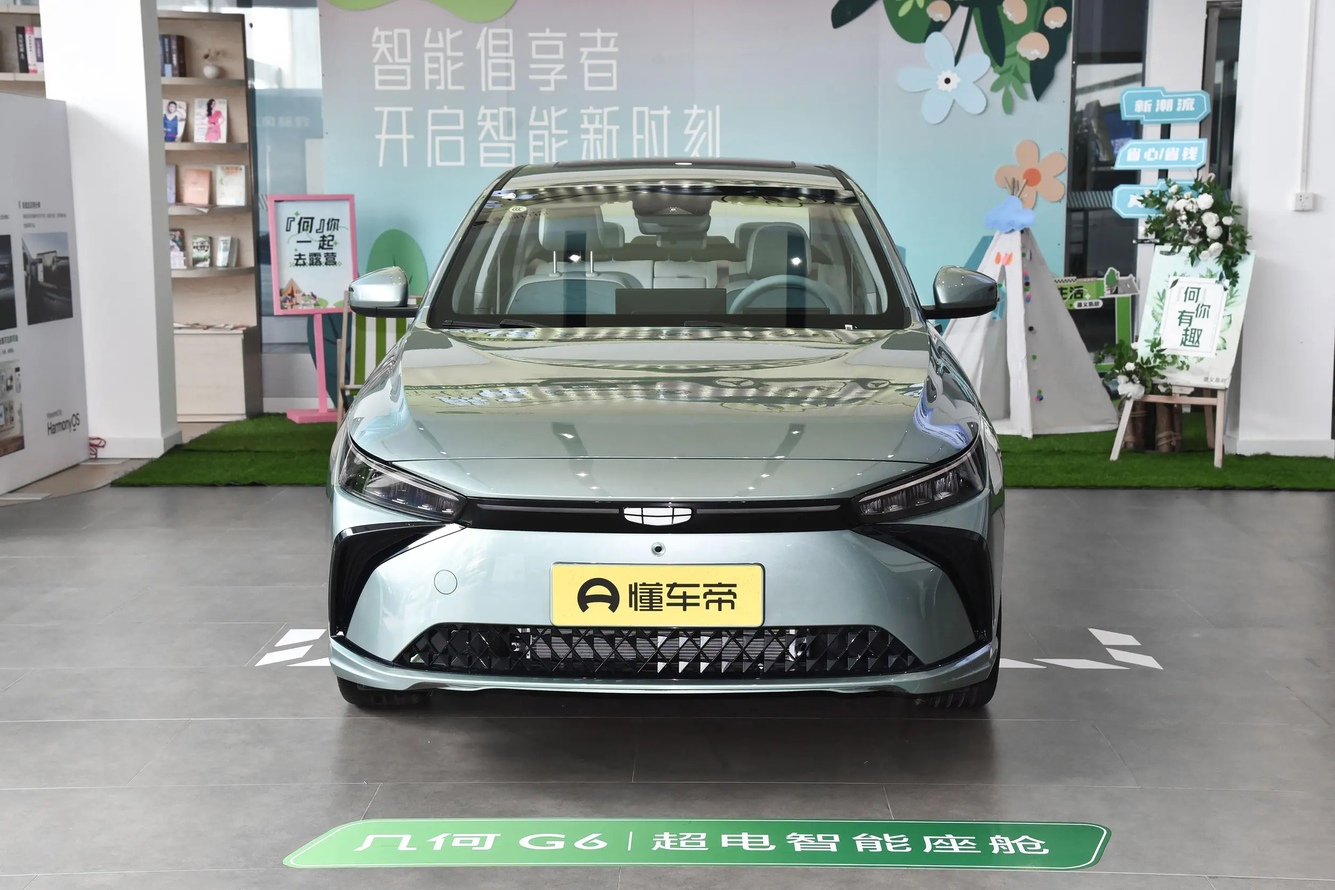GEOMETRY: (624, 508, 691, 525)
